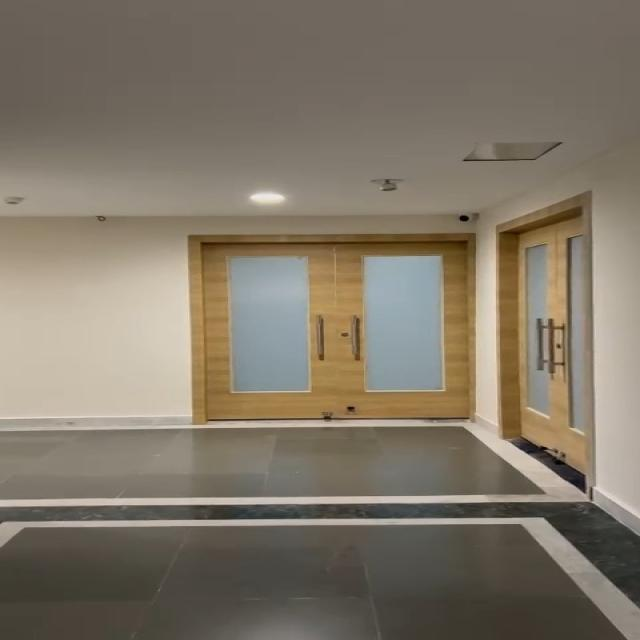door: (179, 237, 471, 431), (504, 213, 586, 472)
floor: (1, 429, 566, 640)
wall: (0, 216, 181, 423)
